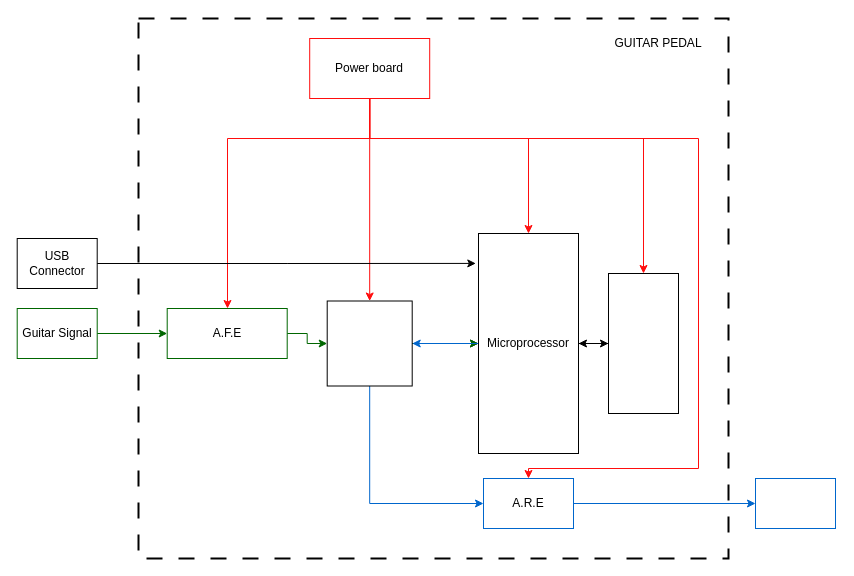
The diagram is 854 pixels wide and 576 high, and some of its shapes have lost their labels. Here are the shapes that lost their labels. From the top down, the centre of each, then its label:
At point (369, 343): "Audio Codec".
At point (643, 343): "R.A.M".
At point (795, 503): "Guitar Signal with Effects".
